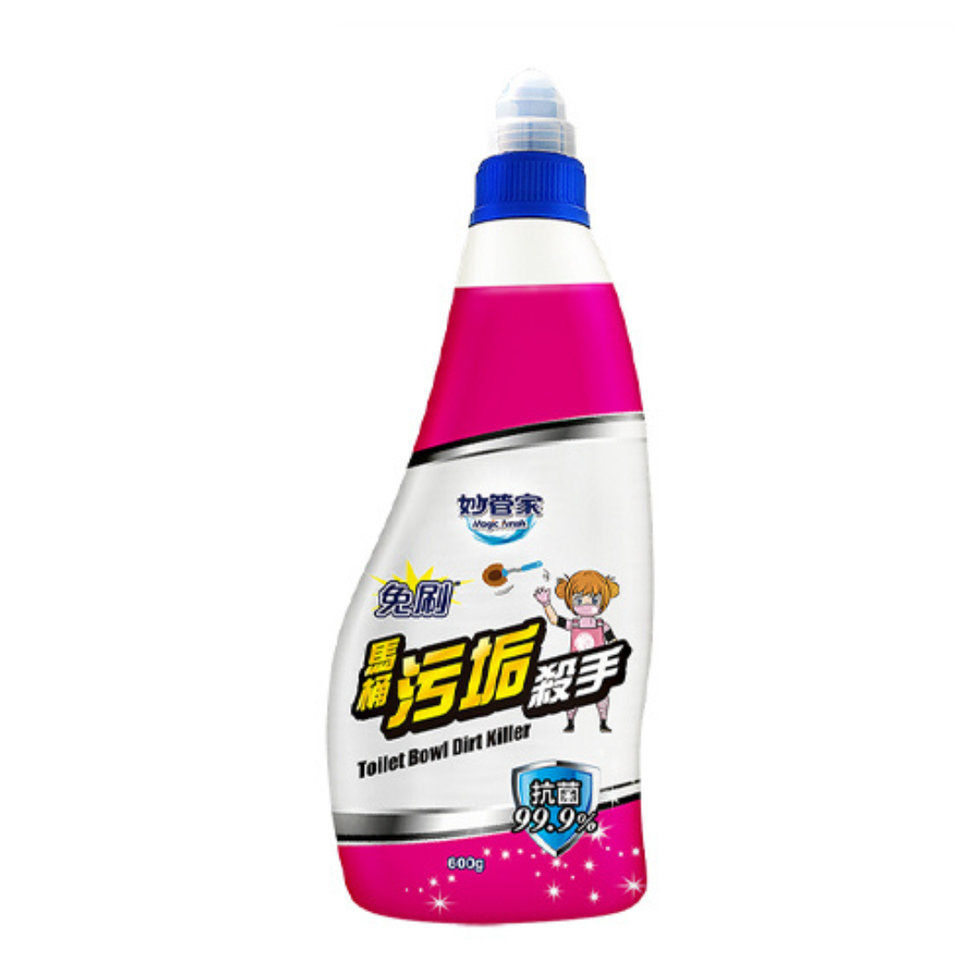cleaner: (321, 57, 676, 932)
